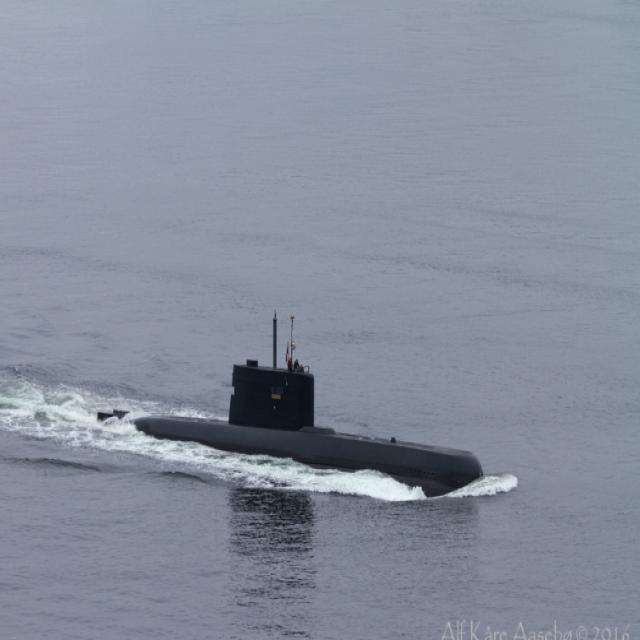submarine: (72, 310, 495, 495)
